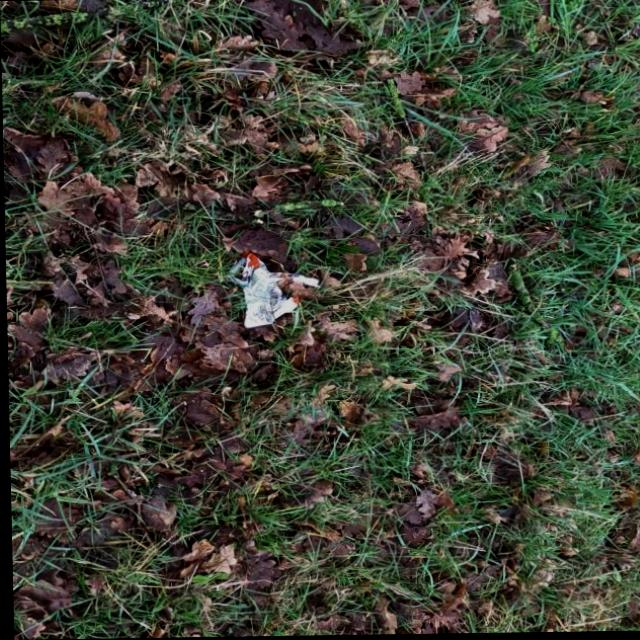Plastic: (224, 249, 321, 329)
